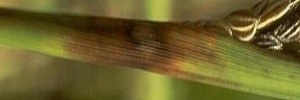RiceSheathBrownRot: (11, 13, 223, 69), (224, 1, 300, 48)
